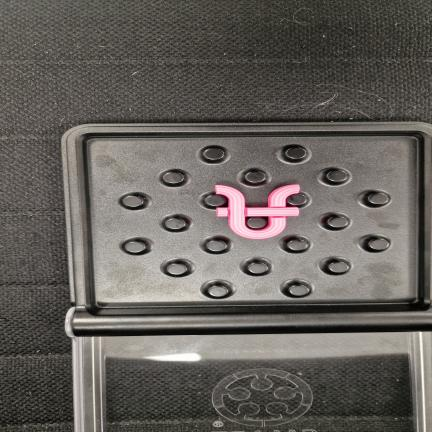G_Pink: (216, 185, 300, 239)
board: (62, 122, 432, 336)
hinge: (67, 306, 430, 336)
pin: (285, 146, 306, 161), (326, 170, 348, 183), (122, 195, 144, 208), (203, 147, 224, 160), (163, 171, 184, 184), (205, 194, 226, 207), (288, 284, 309, 297), (205, 240, 227, 252), (124, 241, 146, 253), (166, 263, 188, 275), (327, 261, 349, 273), (207, 285, 229, 297), (368, 193, 389, 205), (165, 218, 186, 230), (246, 217, 267, 229), (327, 216, 348, 228), (368, 238, 389, 250), (287, 239, 308, 251), (247, 262, 268, 274), (288, 193, 307, 206), (245, 171, 265, 183)
